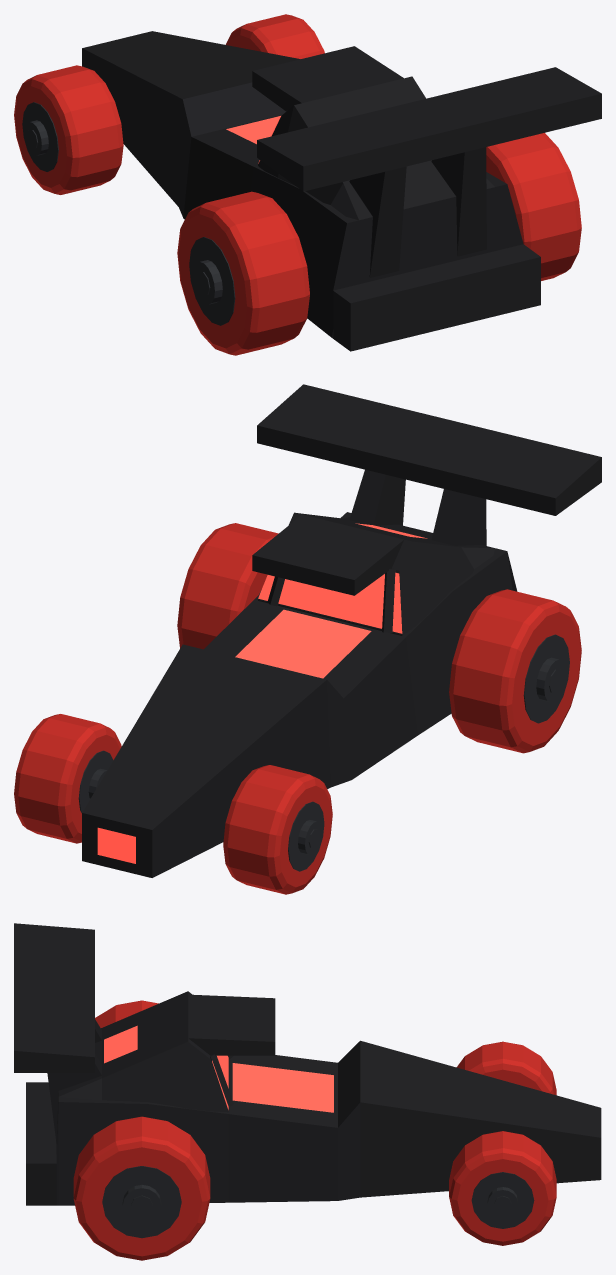
Rendered from yarisci.glb.
3 renders of one model, top to bottom at view 1: azimuth 30°, elevation 25°; view 2: azimuth 150°, elevation 25°; view 3: azimuth 270°, elevation 25°, orthographic. The views are drawn at different scales.
Visible parts, largest first — view 1: body, wheel_RL, wheel_FL, wheel_RR, wheel_FR; view 2: body, wheel_RL, wheel_FL, wheel_FR, wheel_RR; view 3: body, wheel_RR, wheel_FR, wheel_FL, wheel_RL.
Boxes of the visible parts, x1,y1,x2,y2 form: body: (82,31,601,351); wheel_RL: (177,191,309,355); wheel_FL: (14,65,123,194); wheel_RR: (486,133,581,280); wheel_FR: (225,14,324,58); body: (82,384,601,877); wheel_RL: (449,589,581,753); wheel_FL: (223,765,332,894); wheel_FR: (14,714,121,843); wheel_RR: (177,523,278,649); body: (14,923,601,1205); wheel_RR: (73,1116,210,1260); wheel_FR: (449,1131,556,1245); wheel_FL: (456,1041,556,1095); wheel_RL: (95,1000,158,1027).
Bounding box in the file's own units: 2.2 × 1.4 × 3.63.
